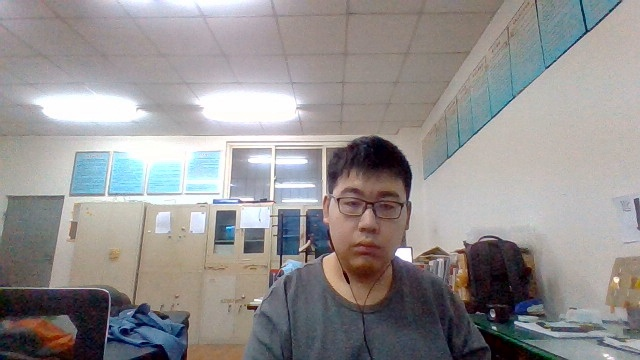listening: (267, 153, 463, 360)
